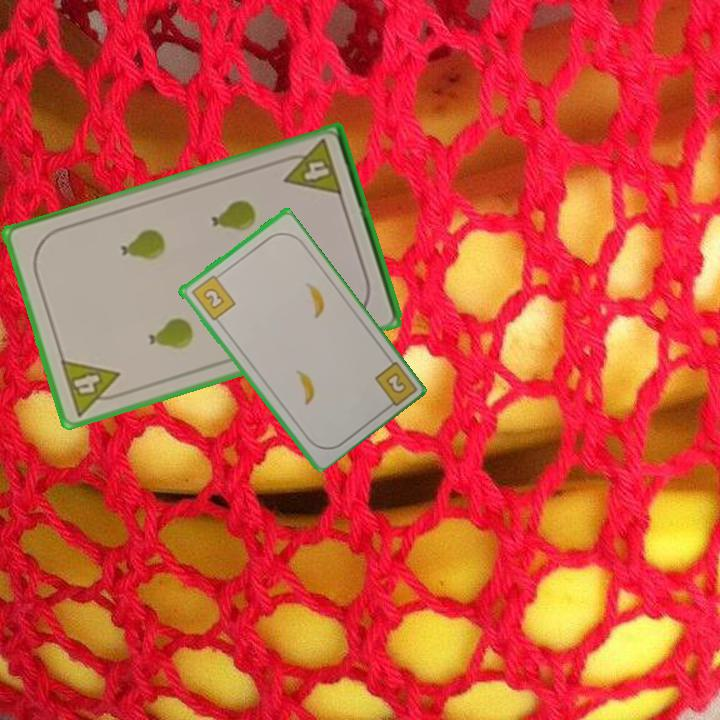2b: (187, 269, 238, 323), (370, 357, 417, 414)
4p: (57, 356, 128, 419), (276, 136, 345, 199)
